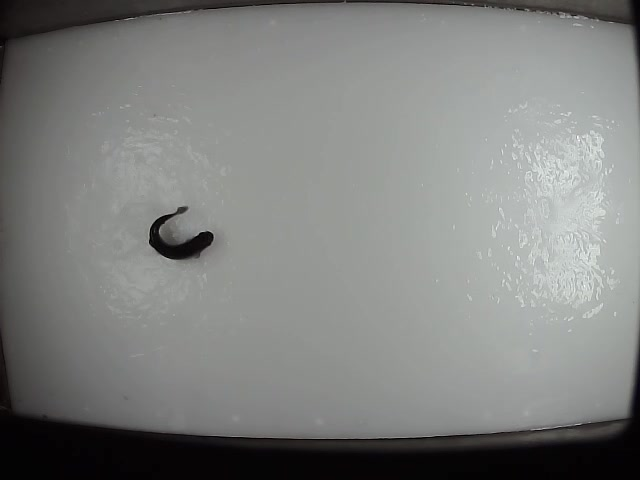fish: (145, 201, 217, 264)
